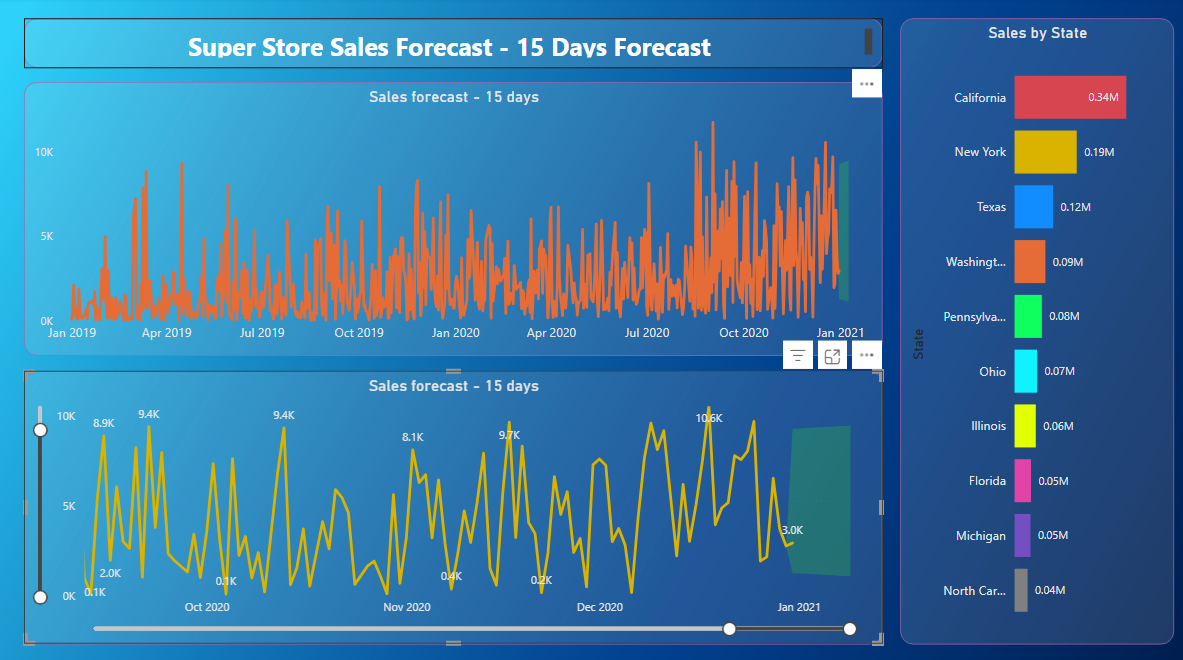

The page's visual inventory and layout, read from the dashboard file:
{"tool":"powerbi","page":{"name":"Page 2","canvas":[1280,720],"ordinal":1},"visuals":[{"type":"lineChart","title":"Sales forecast - 15 days","fields":{"Y":["Sum(SuperStore_Sales_Dataset.Sales)"],"Category":["SuperStore_Sales_Dataset.Order Date"]},"box":[27,91.6,925.8,295.1],"z":0},{"type":"lineChart","title":"Sales forecast - 15 days","fields":{"Y":["Sum(SuperStore_Sales_Dataset.Sales)"],"Category":["SuperStore_Sales_Dataset.Order Date"]},"box":[27,402.9,925.8,295.1],"z":1000},{"type":"clusteredBarChart","title":"Sales by State","fields":{"Category":["SuperStore_Sales_Dataset.State"],"Y":["Sum(SuperStore_Sales_Dataset.Sales)"]},"box":[971.7,22.9,295.1,675.2],"z":2000},{"type":"textbox","box":[27,22.9,925.8,53.9],"z":3000}]}

Visuals, with their boxes in screenshot pixels (x1, y1, x2, y2), scaled from the page's 1280x720 canvas onto the 1183x660 screenshot:
"Sales forecast - 15 days" lineChart: (25,84,881,354)
"Sales forecast - 15 days" lineChart: (25,369,881,640)
"Sales by State" clusteredBarChart: (898,21,1171,640)
textbox: (25,21,881,70)
